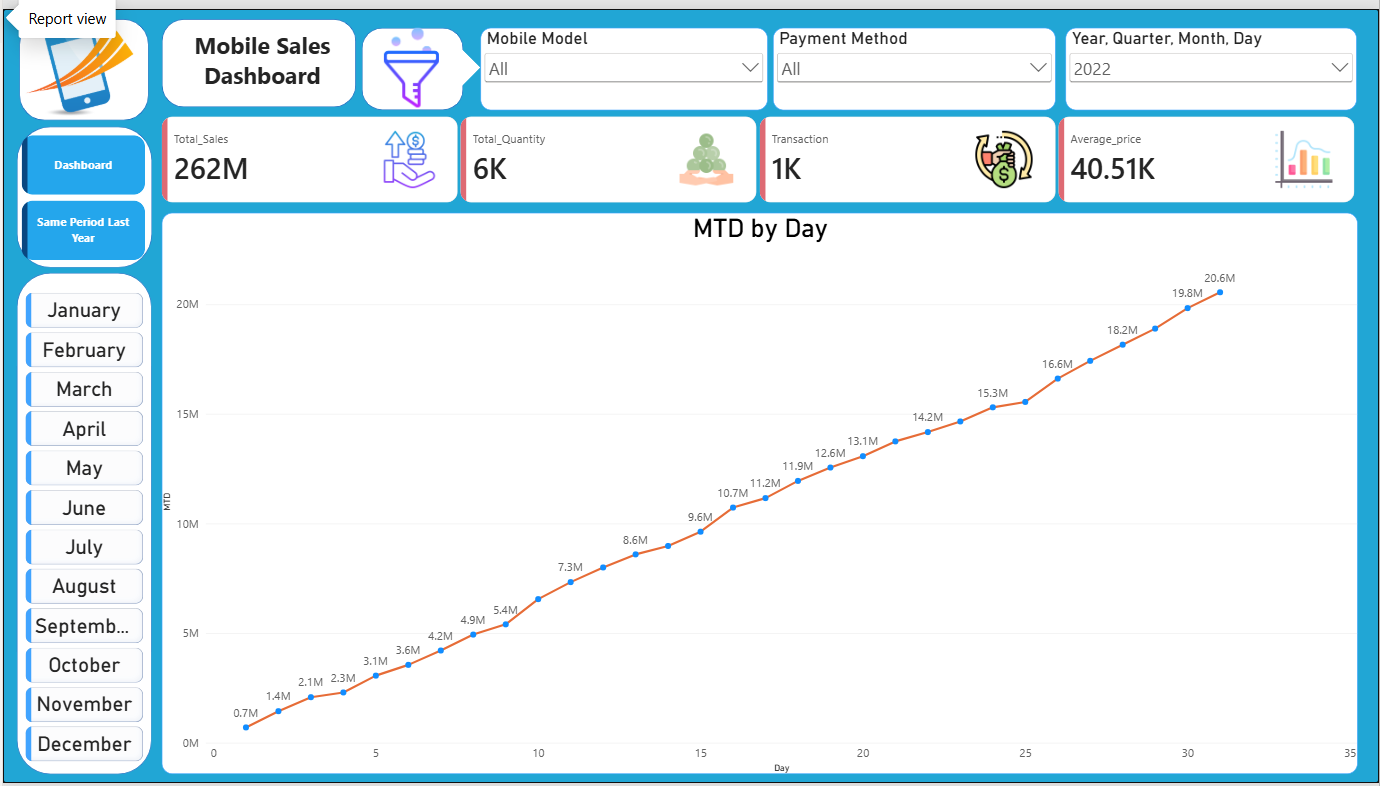

Layout of this report page (visuals, bound fields, positions):
{"tool":"powerbi","page":{"name":"MTD Report","canvas":[1920,1080],"ordinal":1},"visuals":[{"type":"shape","box":[18.5,164.3,189,197.2],"z":0},{"type":"shape","box":[18.3,368.3,188.3,700],"z":1000},{"type":"advancedSlicerVisual","fields":{"Values":["Custom_Calendar.Date.Variation.Date Hierarchy.Month"]},"box":[30.8,396.4,164.3,657.3],"z":2000},{"type":"cardVisual","fields":{"Data":["Mobile_Sales_Data.Total_Sales","Mobile_Sales_Data.Total_Quantity","Mobile_Sales_Data.transaction","Mobile_Sales_Data.Average_price"]},"box":[221.5,150,1667.4,120.3],"z":3000},{"type":"slicer","fields":{"Values":["Mobile_Sales_Data.Mobile Model"]},"box":[665.5,26.7,400.5,115],"z":4000},{"type":"slicer","fields":{"Values":["Mobile_Sales_Data.Payment Method"]},"box":[1074.2,26.7,394.4,115],"z":5000},{"type":"slicer","fields":{"Values":["Custom_Calendar.Date.Variation.Date Hierarchy.Year","Custom_Calendar.Date.Variation.Date Hierarchy.Quarter","Custom_Calendar.Date.Variation.Date Hierarchy.Month","Custom_Calendar.Date.Variation.Date Hierarchy.Day"]},"box":[1482.9,26.7,406.7,115],"z":6000},{"type":"shape","box":[501.2,26.7,141.7,115],"z":7000},{"type":"image","box":[497,26.7,145.8,110.9],"z":8000},{"type":"shape","box":[608,53.4,57.5,55.5],"z":9000},{"type":"shape","box":[22.6,14.4,180.7,141.7],"z":10000},{"type":"image","box":[30.8,6.2,150,150],"z":11000},{"type":"shape","box":[221.8,14.4,271.1,123.2],"z":12000},{"type":"textbox","box":[258.8,28.8,207.4,94.5],"z":13000},{"type":"lineChart","title":"MTD by Day","fields":{"Category":["Custom_Calendar.Date.Variation.Date Hierarchy.Day"],"Y":["Mobile_Sales_Data.MTD"]},"box":[221.5,284.3,1669.2,783.1],"z":14000},{"type":"pageNavigator","box":[26,176,172,174],"z":15000}]}

Visuals, with their boxes on the page's 1920x1080 design canvas (x1, y1, x2, y2). These are canvas units, not pixel positions in the 1385x786 screenshot, which may show the page scaled, cropped or inside an application window:
shape: crop(18, 164, 208, 362)
shape: crop(18, 368, 207, 1068)
advancedSlicerVisual - Custom_Calendar.Date.Variation.Date Hierarchy.Month: crop(31, 396, 195, 1054)
cardVisual - Mobile_Sales_Data.Total_Sales x Mobile_Sales_Data.Total_Quantity: crop(222, 150, 1889, 270)
slicer - Mobile_Sales_Data.Mobile Model: crop(666, 27, 1066, 142)
slicer - Mobile_Sales_Data.Payment Method: crop(1074, 27, 1469, 142)
slicer - Custom_Calendar.Date.Variation.Date Hierarchy.Year x Custom_Calendar.Date.Variation.Date Hierarchy.Quarter: crop(1483, 27, 1890, 142)
shape: crop(501, 27, 643, 142)
image: crop(497, 27, 643, 138)
shape: crop(608, 53, 666, 109)
shape: crop(23, 14, 203, 156)
image: crop(31, 6, 181, 156)
shape: crop(222, 14, 493, 138)
textbox: crop(259, 29, 466, 123)
"MTD by Day" lineChart: crop(222, 284, 1891, 1067)
pageNavigator: crop(26, 176, 198, 350)
